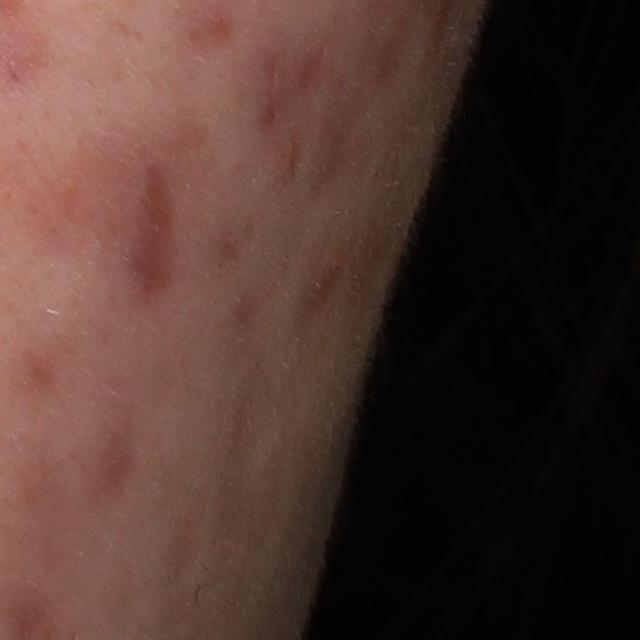atrophic_scar: (122, 159, 188, 298), (316, 119, 360, 192), (238, 397, 267, 482), (171, 521, 204, 590)
